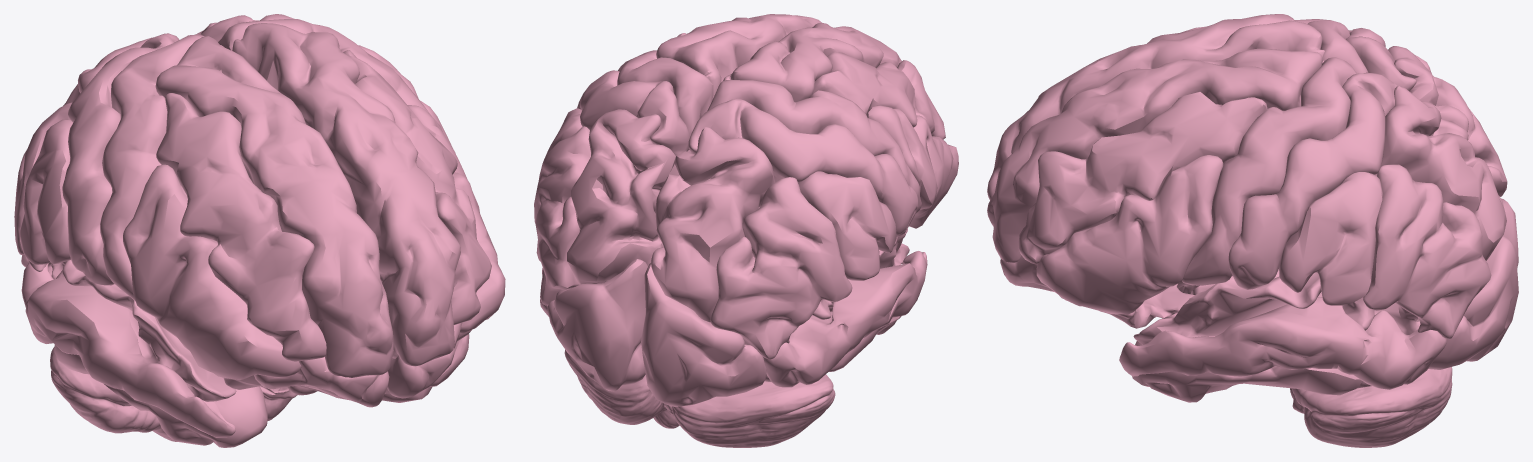
File: brain.glb
3 renders of one model, left to right at view 1: azimuth 30°, elevation 25°; view 2: azimuth 150°, elevation 25°; view 3: azimuth 270°, elevation 25°, orthographic. The views are drawn at different scales.
Parts seen in each view (by area): view 1: grp1 (×2); view 2: grp1 (×2); view 3: grp1 (×2).
Part boxes in pixels (x1,y1,x2,y2): grp1 (×2): (14, 14, 505, 447); grp1 (×2): (534, 14, 958, 447); grp1 (×2): (987, 14, 1518, 447).
Size of the model in its own units: 0.1388 by 0.1432 by 0.18.
